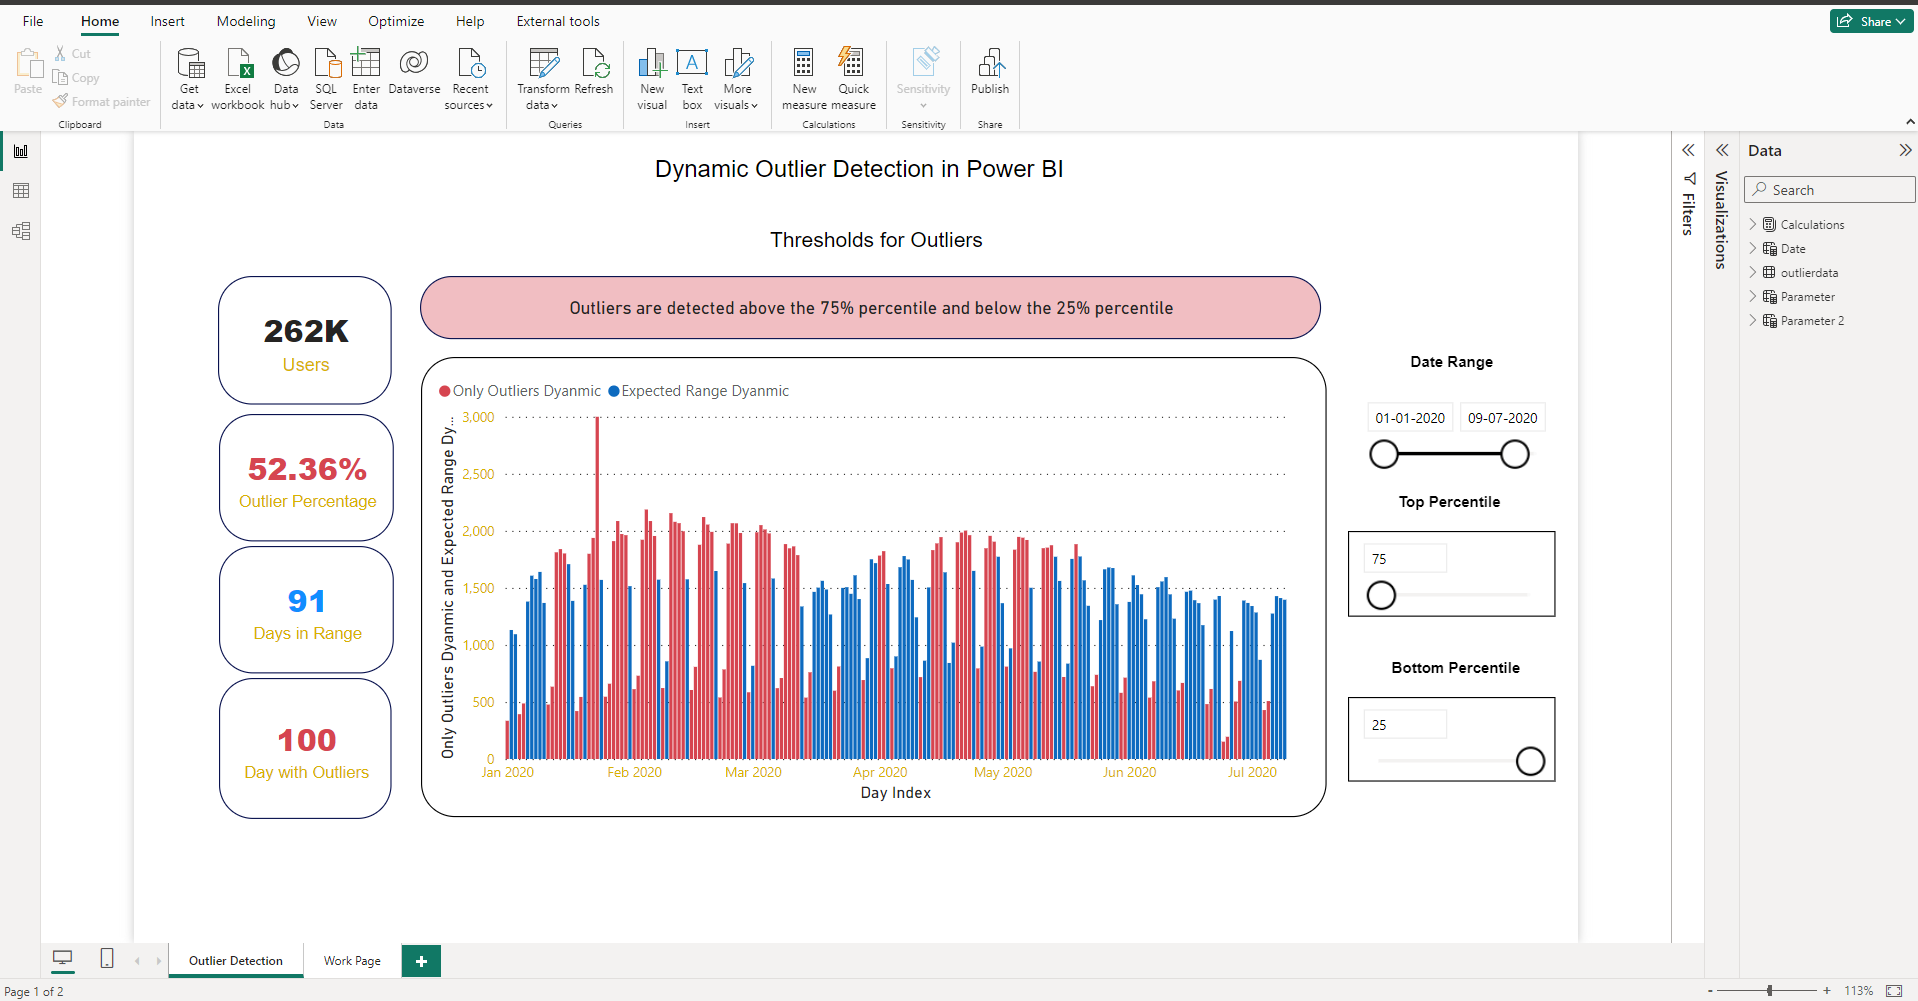

Layout of this report page (visuals, bound fields, positions):
{"tool":"powerbi","page":{"name":"Outlier Detection","canvas":[1280,720],"ordinal":0},"visuals":[{"type":"textbox","box":[259.2,80.8,798.8,39.9],"z":0},{"type":"columnChart","fields":{"Category":["outlierdata.Day Index"],"Y":["Calculations.Only Outliers 1","Calculations.Expected Range"]},"box":[254.3,200,803.3,407.8],"z":1000},{"type":"slicer","fields":{"Values":["outlierdata.Day Index"]},"box":[1081.2,230.4,183.9,75.2],"z":2000},{"type":"card","fields":{"Values":["Calculations.Count Only Outliers"]},"box":[75.4,485,153.5,124.5],"z":3000},{"type":"card","fields":{"Values":["Calculations.Count Expected"]},"box":[75.4,368.3,155.2,113.1],"z":4000},{"type":"card","fields":{"Values":["Sum(outlierdata.Users)"]},"box":[74.5,128.9,154.3,114],"z":6000},{"type":"slicer","fields":{"Values":["Parameter.Parameter"]},"box":[1076.6,354.8,183.9,76.2],"z":7000},{"type":"slicer","fields":{"Values":["Parameter 2.Parameter"]},"box":[1076.6,501.6,183.9,75.2],"z":8000},{"type":"card","fields":{"Values":["Calculations.Measure"]},"box":[253.9,129,798.6,56.3],"z":9000},{"type":"textbox","box":[26.1,0,1235,60.4],"z":11000},{"type":"textbox","box":[1069.1,314.9,193.8,40.3],"z":12000},{"type":"textbox","box":[1075.6,461.7,193.2,39.9],"z":13000},{"type":"card","fields":{"Values":["Calculations.Measure 2"]},"box":[75.4,250.8,155.2,113.1],"z":14000},{"type":"textbox","box":[1071.9,190.4,193.2,39.9],"z":15000}]}

Visuals, with their boxes on the page's 1280x720 design canvas (x1, y1, x2, y2). These are canvas units, not pixel positions in the 1918x1001 screenshot, which may show the page scaled, cropped or inside an application window:
textbox: pyautogui.locateOnScreen(259, 81, 1058, 121)
columnChart - outlierdata.Day Index x Calculations.Only Outliers 1: pyautogui.locateOnScreen(254, 200, 1058, 608)
slicer - outlierdata.Day Index: pyautogui.locateOnScreen(1081, 230, 1265, 306)
card - Calculations.Count Only Outliers: pyautogui.locateOnScreen(75, 485, 229, 610)
card - Calculations.Count Expected: pyautogui.locateOnScreen(75, 368, 231, 481)
card - Sum(outlierdata.Users): pyautogui.locateOnScreen(74, 129, 229, 243)
slicer - Parameter.Parameter: pyautogui.locateOnScreen(1077, 355, 1260, 431)
slicer - Parameter 2.Parameter: pyautogui.locateOnScreen(1077, 502, 1260, 577)
card - Calculations.Measure: pyautogui.locateOnScreen(254, 129, 1052, 185)
textbox: pyautogui.locateOnScreen(26, 0, 1261, 60)
textbox: pyautogui.locateOnScreen(1069, 315, 1263, 355)
textbox: pyautogui.locateOnScreen(1076, 462, 1269, 502)
card - Calculations.Measure 2: pyautogui.locateOnScreen(75, 251, 231, 364)
textbox: pyautogui.locateOnScreen(1072, 190, 1265, 230)
